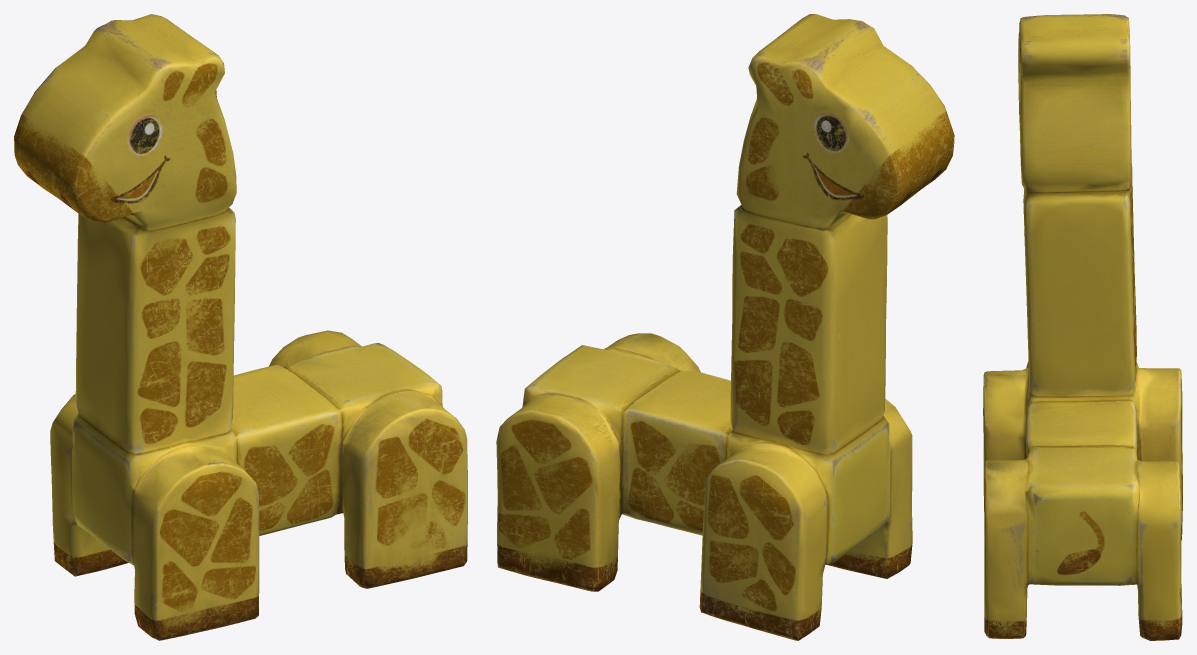
The picture shows the model from 3 angles, left to right: view 1: azimuth 30°, elevation 25°; view 2: azimuth 150°, elevation 25°; view 3: azimuth 270°, elevation 25°; orthographic projection. The views are drawn at different scales.
Visible parts, largest first — view 1: ujpheaova_LOD0_TIER2_000; view 2: ujpheaova_LOD0_TIER2_000; view 3: ujpheaova_LOD0_TIER2_000.
Part boxes in pixels (<box>): ujpheaova_LOD0_TIER2_000: <box>14,14,467,640</box>; ujpheaova_LOD0_TIER2_000: <box>496,14,954,640</box>; ujpheaova_LOD0_TIER2_000: <box>983,14,1182,640</box>.
Size of the model in its own units: 0.1036 by 0.145 by 0.0523.
Materials: 1 (1 with a texture image).
